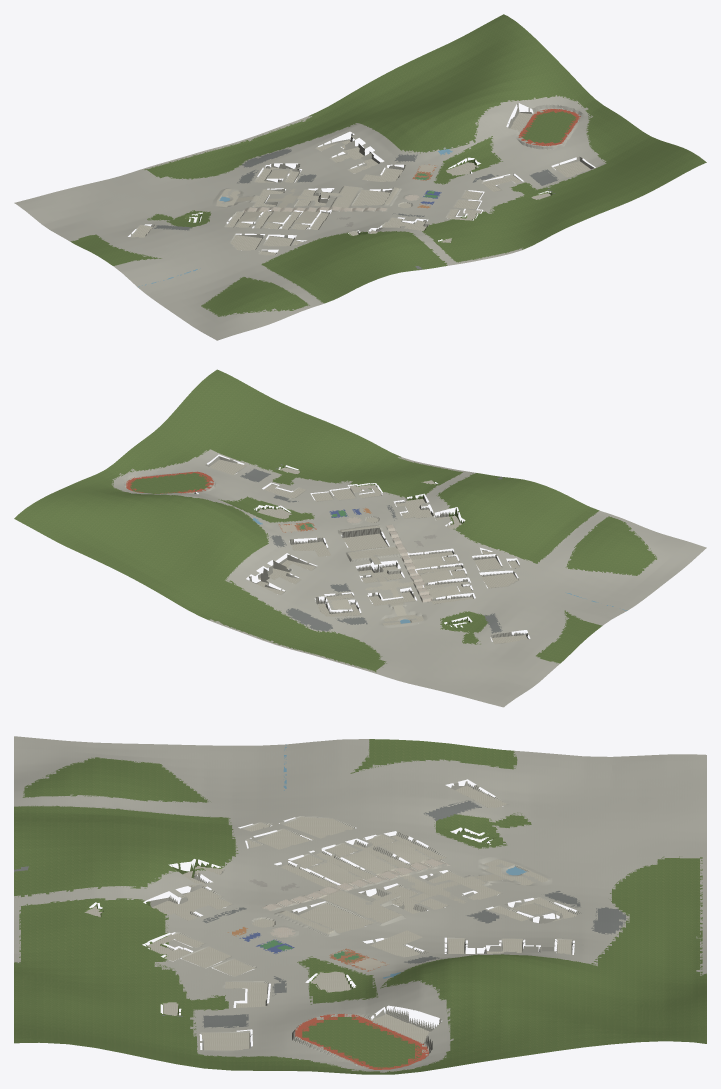
3 renders of one model, top to bottom at view 1: azimuth 30°, elevation 25°; view 2: azimuth 150°, elevation 25°; view 3: azimuth 270°, elevation 25°, orthographic. The views are drawn at different scales.
Visible parts, largest first — view 1: dku-base, dku-woodOver, dku-paving, dku-wood, dku-grass, dku-pitchTurf, dku-asphalt, dku-woodOver-overlay, dku-terracotta, dku-graniteLight, dku-track; view 2: dku-base, dku-woodOver, dku-paving, dku-wood, dku-grass, dku-asphalt, dku-pitchTurf, dku-woodOver-overlay, dku-terracotta, dku-graniteLight; view 3: dku-base, dku-woodOver, dku-paving, dku-wood, dku-pitchTurf, dku-grass, dku-asphalt, dku-terracotta, dku-woodOver-overlay, dku-track, dku-graniteLight, dku-pitchTurfB-overlay (+2 smaller).
Part boxes in pixels (x1,y1,x2,y2): dku-base: (14, 95, 606, 340); dku-woodOver: (147, 15, 706, 303); dku-paving: (131, 112, 590, 255); dku-wood: (71, 14, 651, 316); dku-grass: (92, 137, 500, 265); dku-pitchTurf: (511, 111, 576, 194); dku-asphalt: (155, 149, 557, 269); dku-woodOver-overlay: (144, 18, 652, 302); dku-terracotta: (216, 186, 411, 208); dku-graniteLight: (244, 195, 419, 212); dku-track: (519, 109, 579, 145); dku-base: (111, 449, 706, 707); dku-woodOver: (16, 369, 599, 671); dku-paving: (186, 459, 527, 643); dku-wood: (14, 423, 655, 663); dku-grass: (221, 497, 602, 643); dku-asphalt: (240, 469, 502, 632); dku-pitchTurf: (130, 472, 295, 493); dku-woodOver-overlay: (20, 424, 596, 672); dku-terracotta: (348, 517, 423, 625); dku-graniteLight: (347, 517, 432, 602); dku-base: (14, 736, 706, 1072); dku-woodOver: (14, 806, 699, 1074); dku-paving: (84, 785, 576, 1050); dku-wood: (14, 742, 706, 1072); dku-pitchTurf: (190, 996, 414, 1067); dku-grass: (299, 739, 530, 1003); dku-asphalt: (14, 801, 625, 1027); dku-terracotta: (253, 859, 547, 927); dku-woodOver-overlay: (14, 805, 702, 1068); dku-track: (295, 1014, 428, 1069); dku-graniteLight: (263, 858, 448, 937); dku-pitchTurfB-overlay: (196, 998, 418, 1064).
Bounding box in the file's own units: 1096 × 154 × 788.
36 materials, 19 textured.
